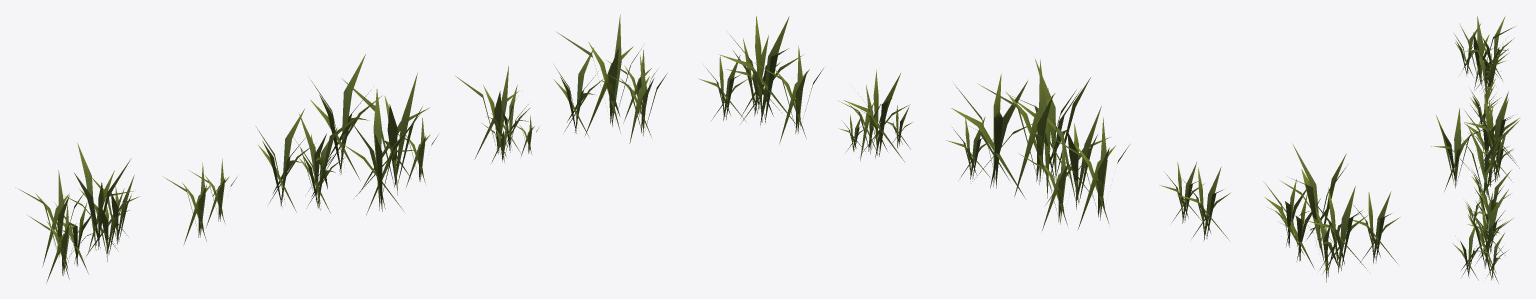
Rendered from Grass1.fbx.
3 views of the same model, side by side, from view 1: azimuth 30°, elevation 25°; view 2: azimuth 150°, elevation 25°; view 3: azimuth 270°, elevation 25° (orthographic). The views are drawn at different scales.
Parts seen in each view (by area): view 1: SM_cmn_mount_GrassStrip_01a; view 2: SM_cmn_mount_GrassStrip_01a; view 3: SM_cmn_mount_GrassStrip_01a.
Boxes of the visible parts, left/top/right/bottom form: SM_cmn_mount_GrassStrip_01a: left=15, top=14, right=667, bottom=282; SM_cmn_mount_GrassStrip_01a: left=698, top=16, right=1399, bottom=282; SM_cmn_mount_GrassStrip_01a: left=1431, top=16, right=1519, bottom=283.
Bounding box in the file's own units: 202 × 39.91 × 35.16.
